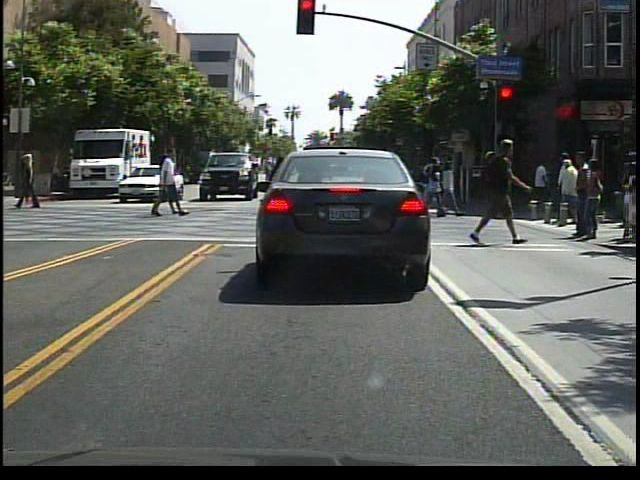person: (470, 131, 525, 251), (149, 150, 186, 226), (553, 154, 580, 227), (255, 155, 288, 214), (16, 149, 43, 215)
